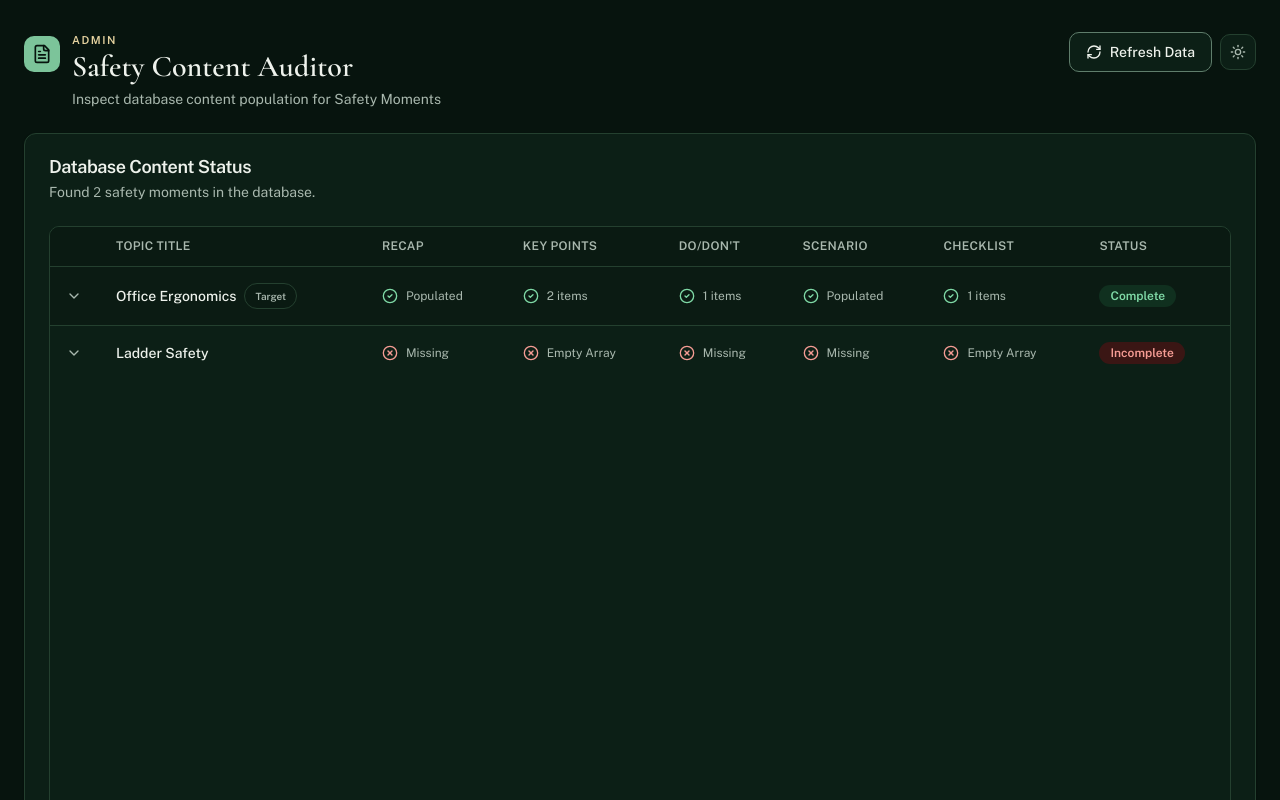
Scenario: page states (batch 3A) › Auditor: completeness as words on status badges, and an expanded row themed in dark
Expected: the text "Ladder Safety" is shown, x1=116 y1=345 x2=209 y2=361
Expected: the text "Target" is shown, x1=244 y1=283 x2=297 y2=309
Press the mouse on the text "Office Ergonomics": point(207, 296) x1=116 y1=283 x2=297 y2=309
Click the text "Office Ergonomics": point(207, 296) x1=116 y1=283 x2=297 y2=309
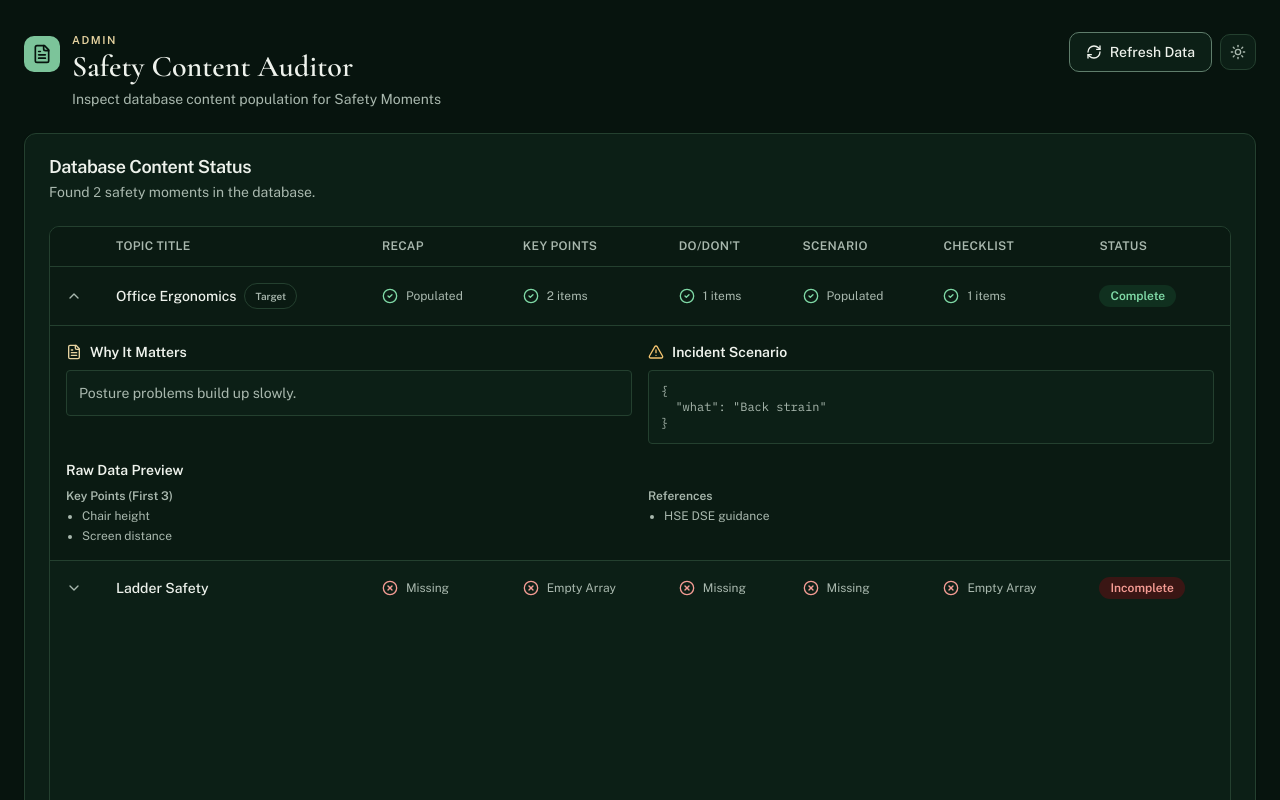
Now the heading "Why It Matters" is shown, box x1=66 y1=344 x2=187 y2=360
Now the text "Posture problems build up slowly." is shown, box x1=66 y1=370 x2=632 y2=416
